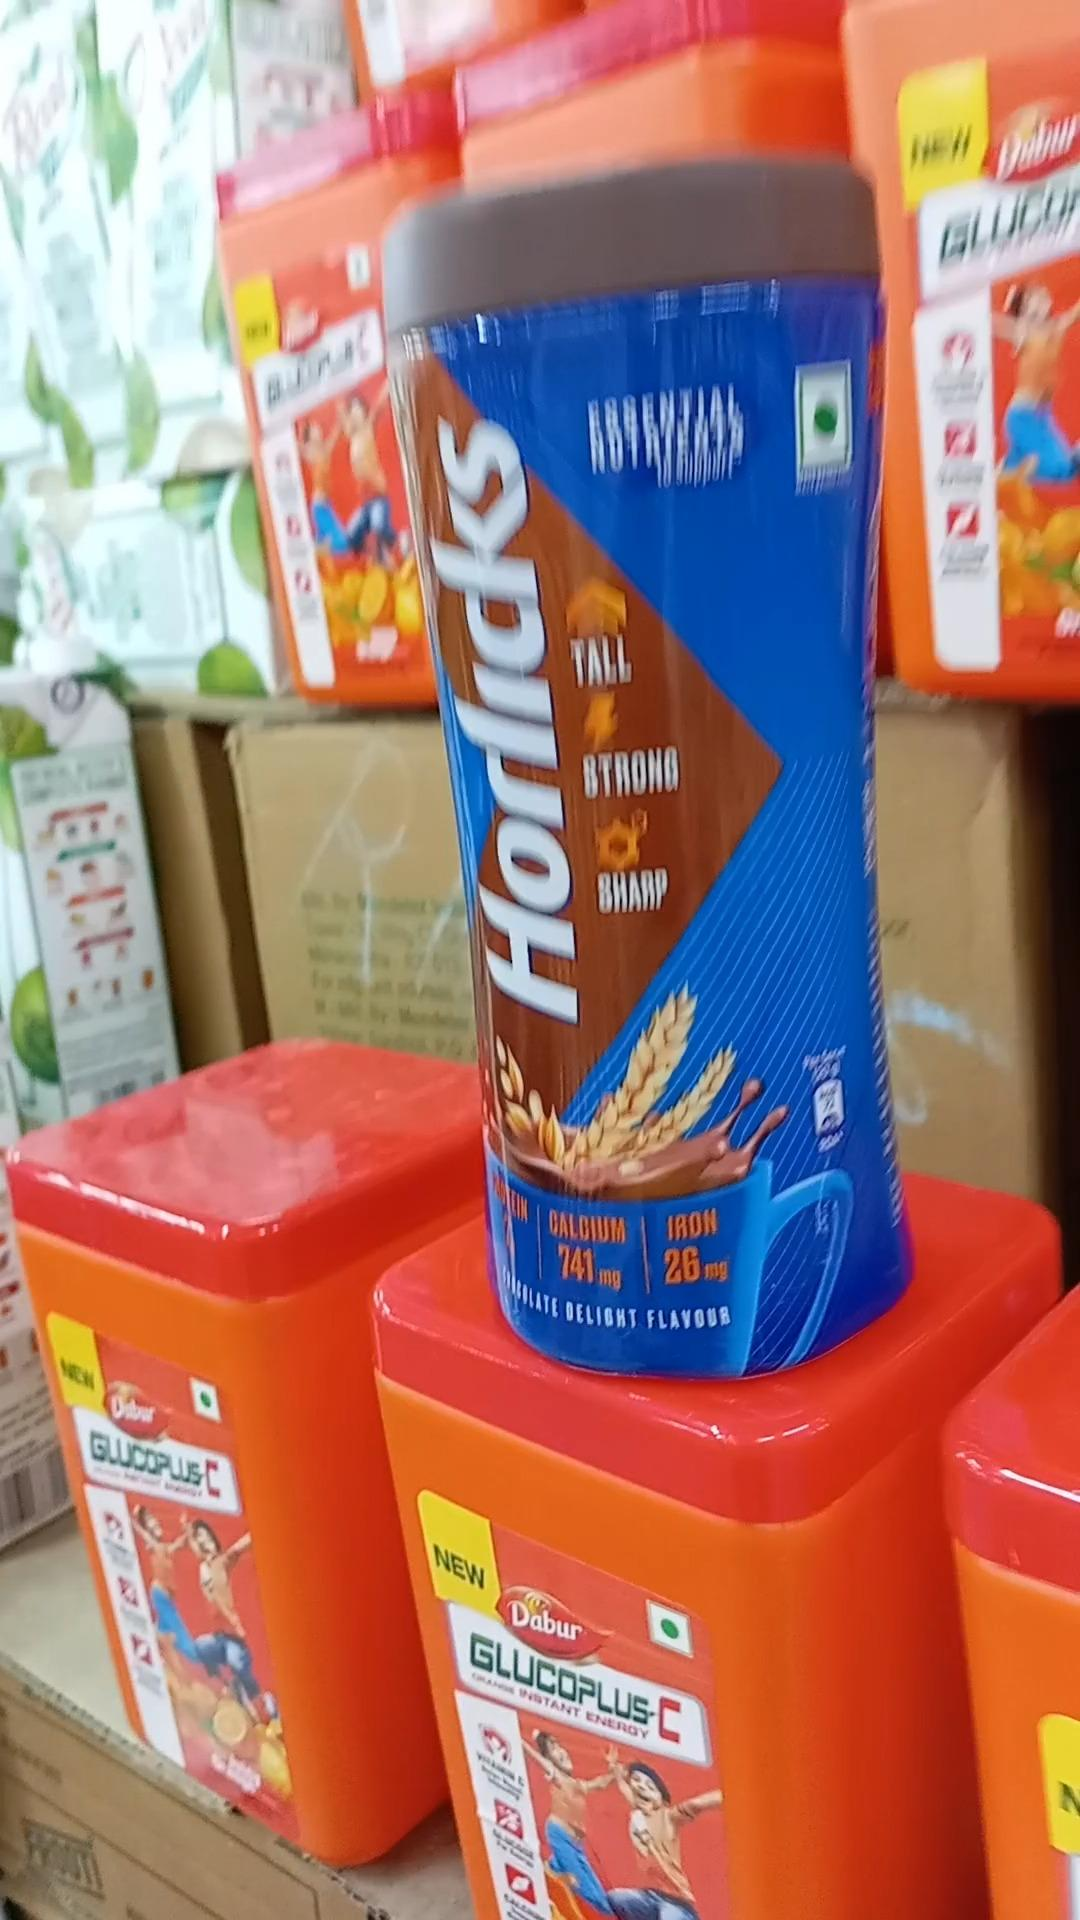HORLICK_CHOCOLATE_500_G_JAR: (410, 152, 885, 1356)
